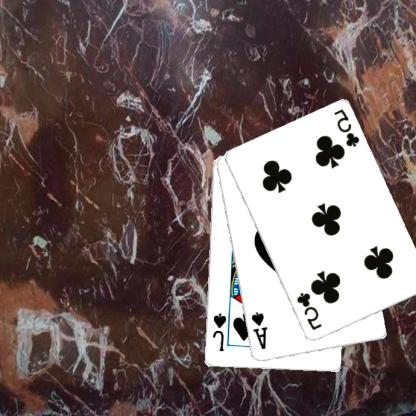5C: (295, 291, 325, 332), (333, 107, 362, 148)
AS: (250, 310, 270, 351)
JS: (211, 310, 229, 352)
